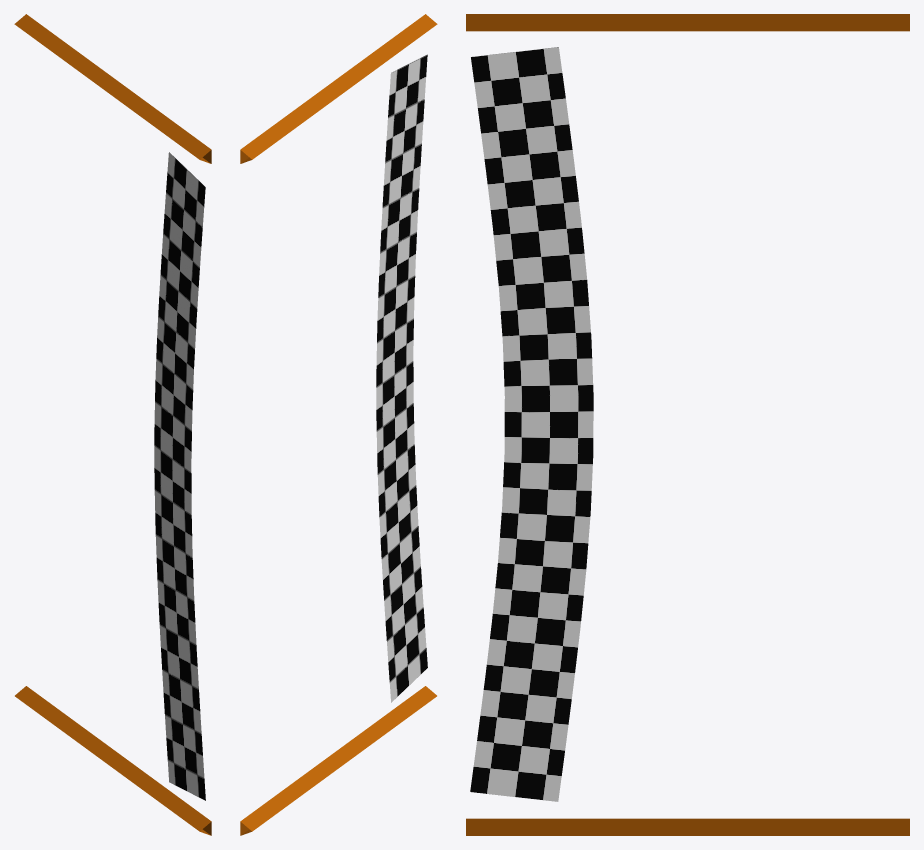
Rendered from Finish.obj.
The picture shows the model from 3 angles, left to right: view 1: azimuth 30°, elevation 25°; view 2: azimuth 150°, elevation 25°; view 3: azimuth 270°, elevation 25°; orthographic projection. The views are drawn at different scales.
Parts seen in each view (by area): view 1: Plane.001; view 2: Plane.001; view 3: Plane.001.
Boxes of the visible parts, x1,y1,x2,y2 form: Plane.001: (14,14,211,835); Plane.001: (240,14,437,835); Plane.001: (466,14,909,835).
Bounding box in the file's own units: 0.375 × 20.43 × 10.
Materials: 1 (1 with a texture image).
